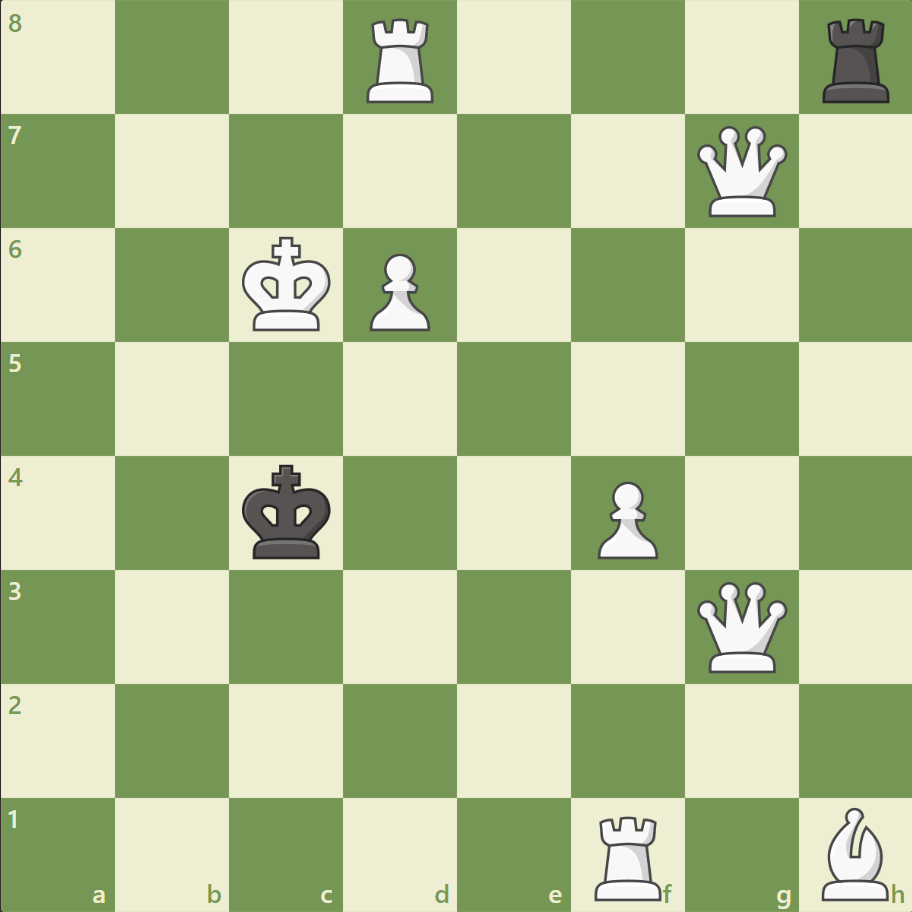B: (812, 801, 896, 904)
K: (238, 231, 338, 339)
P: (361, 246, 435, 337), (588, 473, 662, 564)
Q: (691, 122, 790, 222), (691, 576, 790, 676)
R: (587, 806, 670, 904), (360, 12, 442, 109)
k: (238, 458, 338, 566)
r: (814, 12, 897, 109)
